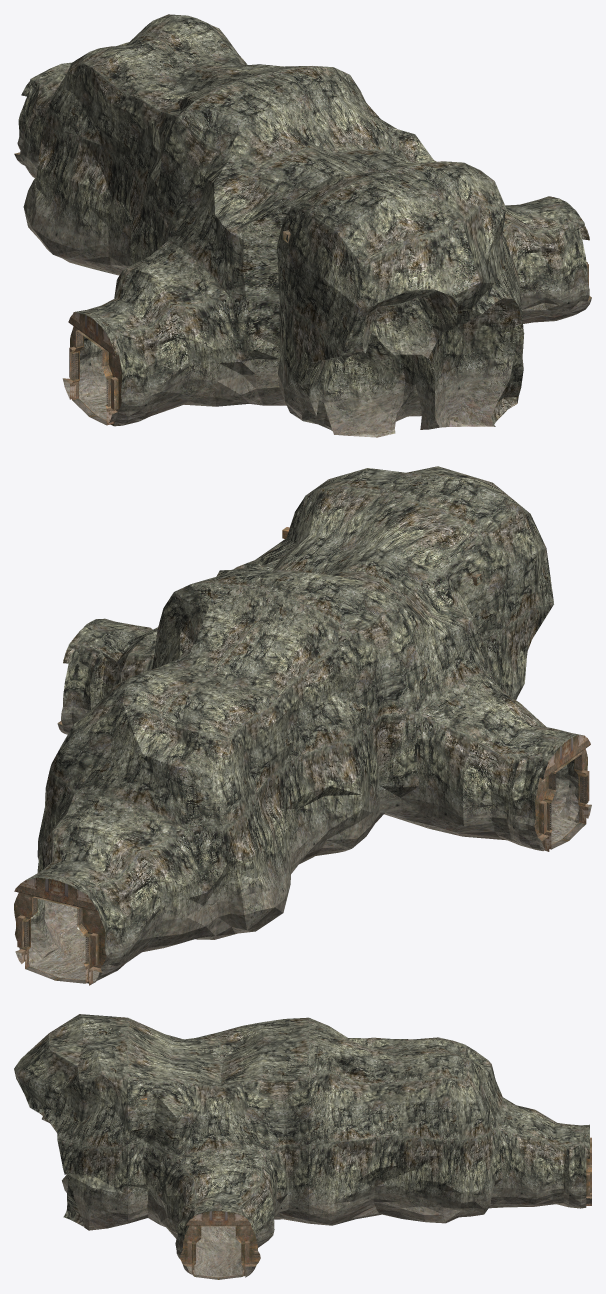
File: poi_all_bunker_allum_mine_r47_largeroom47_mesh_r47.fbx
The picture shows the model from 3 angles, top to bottom: view 1: azimuth 30°, elevation 25°; view 2: azimuth 150°, elevation 25°; view 3: azimuth 270°, elevation 25°; orthographic projection. The views are drawn at different scales.
Parts seen in each view (by area): view 1: mesh_node; view 2: mesh_node; view 3: mesh_node.
Boxes of the visible parts, x1,y1,x2,y2 form: mesh_node: (14, 14, 591, 437); mesh_node: (14, 466, 591, 985); mesh_node: (14, 1014, 591, 1279).
Bounding box in the file's own units: 34.03 × 16.57 × 51.08.
